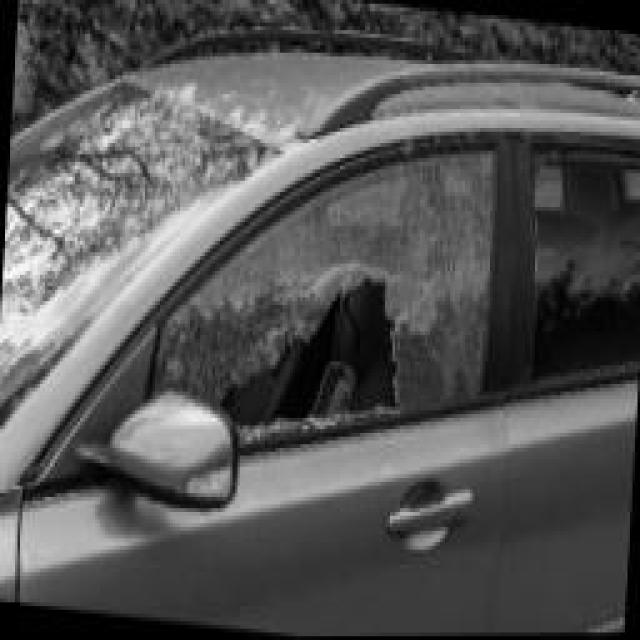Door: (228, 151, 492, 639)
